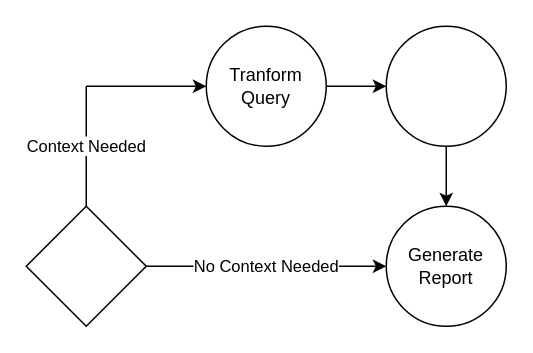
Image size: 533x353. Some labels were removed from this diagram. Each missing label, with the centre of its shape:
Routing: (85,265)
Web Search: (445,85)
